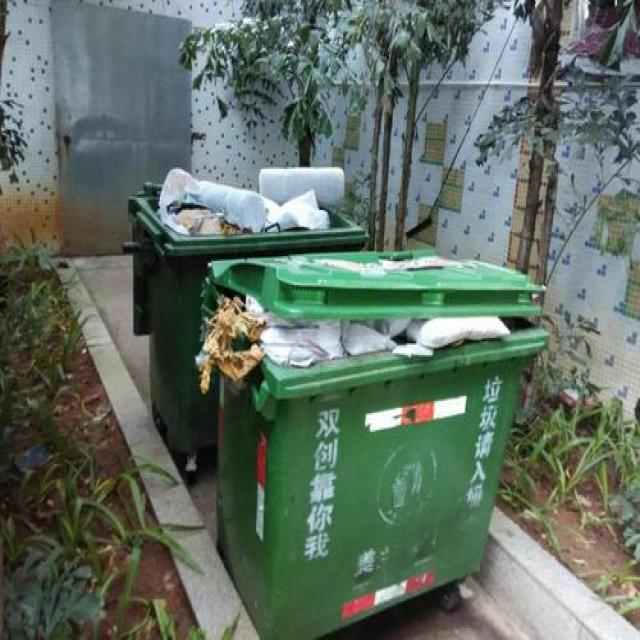overflow: (193, 247, 548, 638), (127, 164, 367, 450)
